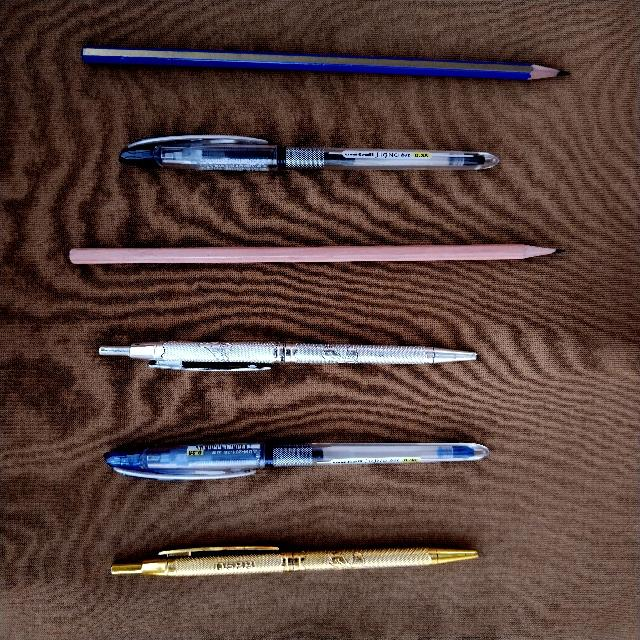pen: (105, 443, 488, 479), (120, 135, 498, 170)
pencil: (82, 47, 567, 80), (69, 244, 559, 263)
signature pen: (111, 546, 477, 576), (99, 341, 476, 370)
